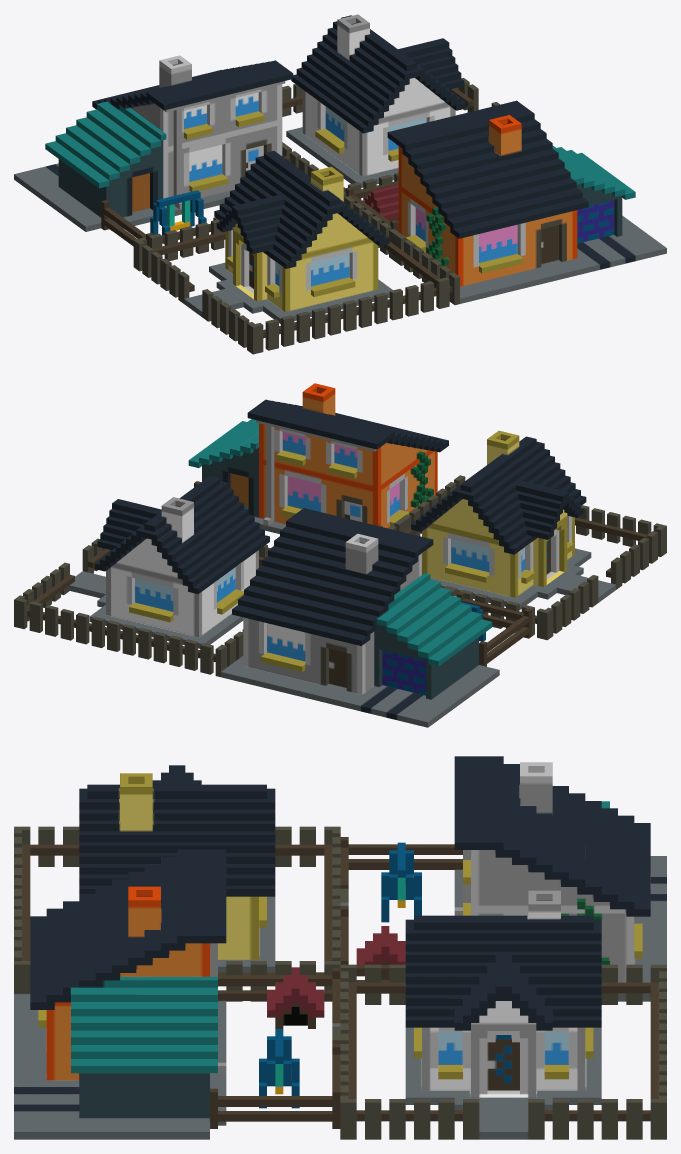
Rendered from building_small_4_overtile.glb.
3 renders of one model, top to bottom at view 1: azimuth 30°, elevation 25°; view 2: azimuth 150°, elevation 25°; view 3: azimuth 270°, elevation 25°, orthographic. The views are drawn at different scales.
Visible parts, largest first — view 1: building_small_4_overtile; view 2: building_small_4_overtile; view 3: building_small_4_overtile.
Part boxes in pixels (bbox=[...]): building_small_4_overtile: bbox=[14, 14, 666, 354]; building_small_4_overtile: bbox=[14, 383, 666, 727]; building_small_4_overtile: bbox=[14, 756, 666, 1139].
Size of the model in its own units: 8 by 2.3 by 8.
Materials: 1 (1 with a texture image).
